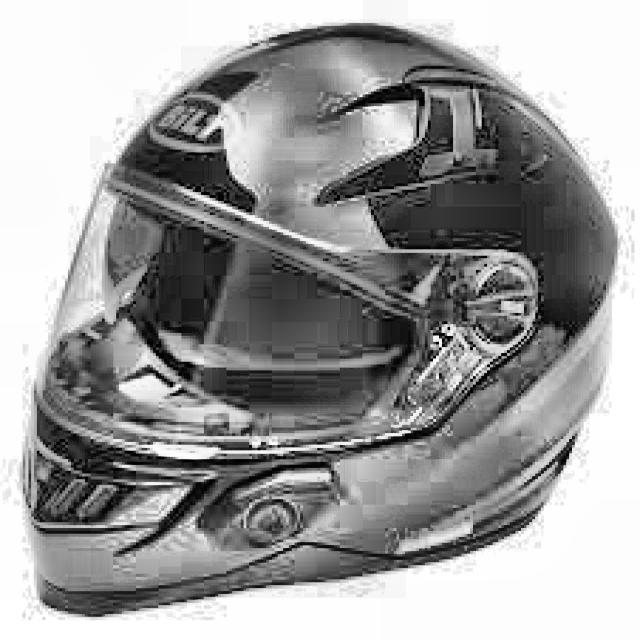Helmet: (23, 23, 625, 621)
